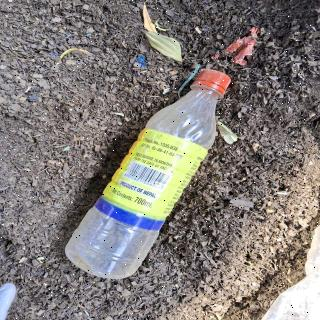Plastic-bottle: (41, 28, 257, 289)
